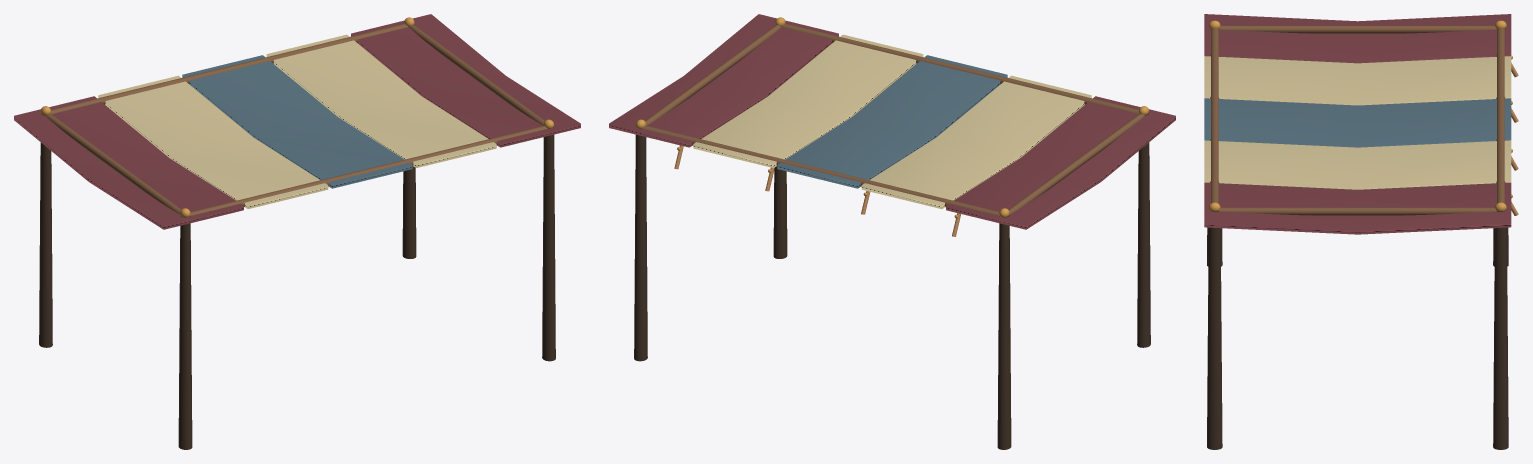
Rendered from detail_market_awning.glb.
3 views of the same model, side by side, from view 1: azimuth 30°, elevation 25°; view 2: azimuth 150°, elevation 25°; view 3: azimuth 270°, elevation 25° (orthographic). The views are drawn at different scales.
Parts seen in each view (by area): view 1: cloth, wood; view 2: cloth, wood; view 3: cloth, wood.
Boxes of the visible parts, <box> form: cloth: <box>14,14,580,229</box>; wood: <box>39,17,555,449</box>; cloth: <box>609,14,1175,229</box>; wood: <box>634,17,1150,449</box>; cloth: <box>1204,14,1511,234</box>; wood: <box>1207,20,1518,449</box>.
Bounding box in the file's own units: 4.4 × 2.4 × 2.8.
